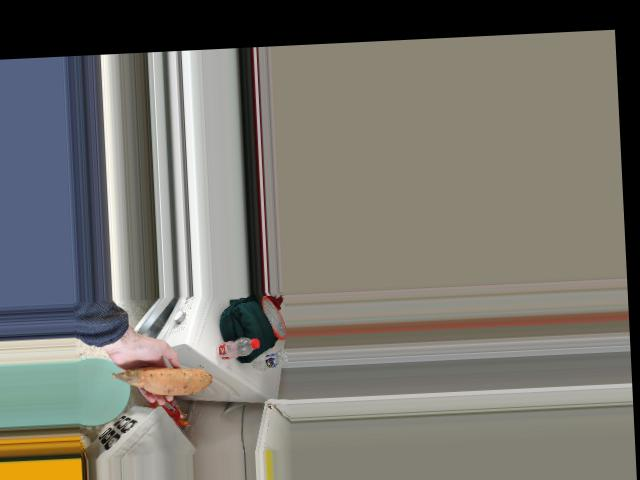sweet_potato: (117, 362, 204, 392)
